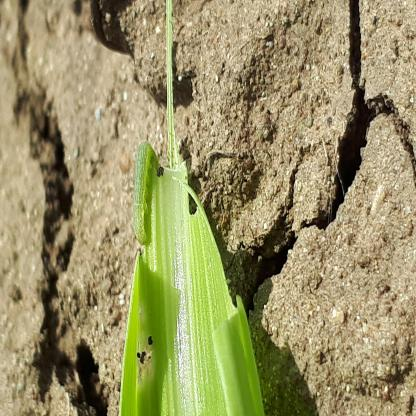armyworm: (96, 229, 152, 281)
